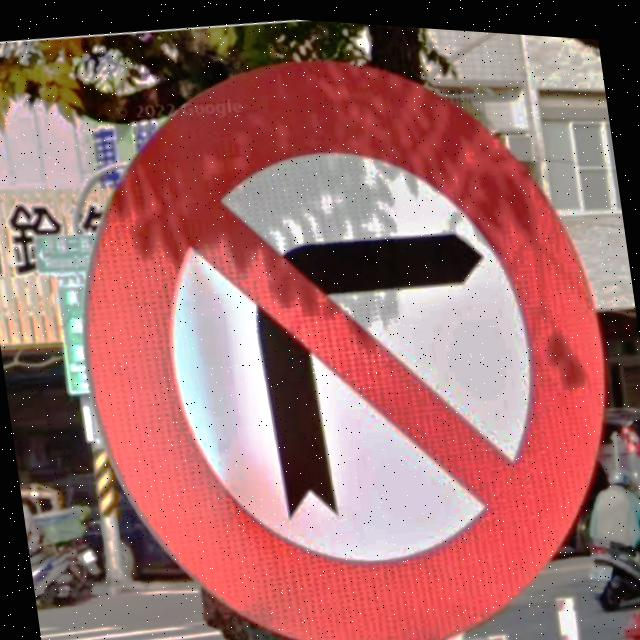noturnright: (83, 58, 608, 640)
